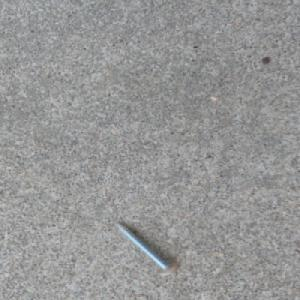Screw: (113, 221, 179, 277)
